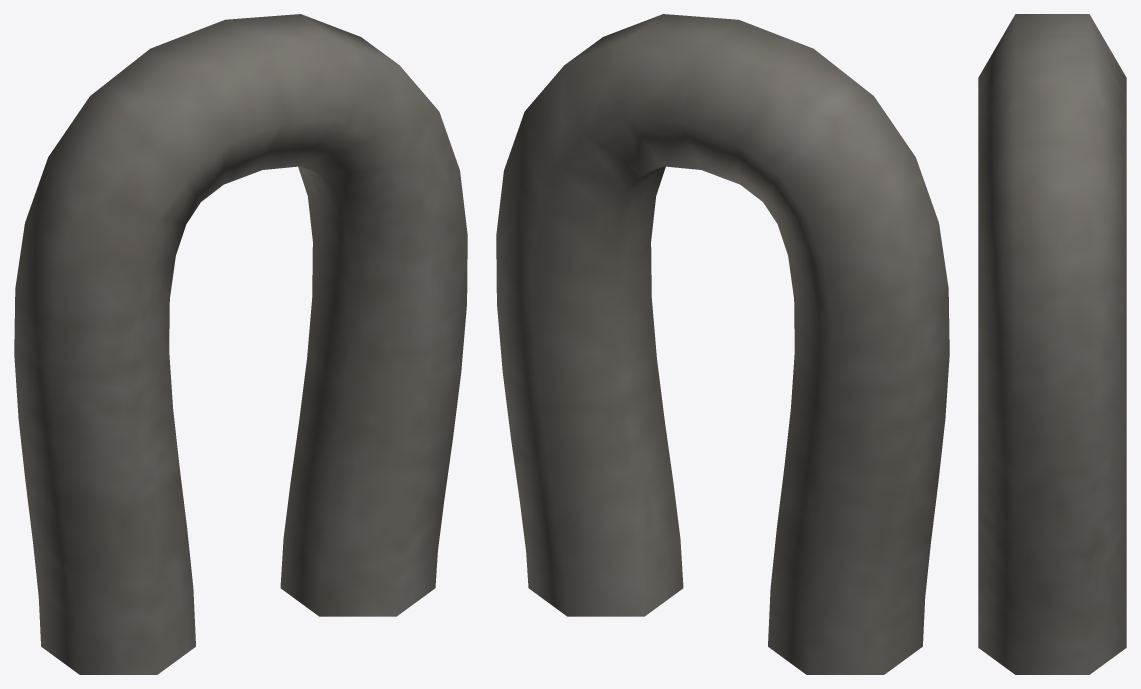
The model's file is cable_cable_double_uturn.fbx.
3 renders of one model, left to right at view 1: azimuth 30°, elevation 25°; view 2: azimuth 150°, elevation 25°; view 3: azimuth 270°, elevation 25°, orthographic. The views are drawn at different scales.
Parts seen in each view (by area): view 1: modular_electric_cables__cable_double_uturn; view 2: modular_electric_cables__cable_double_uturn; view 3: modular_electric_cables__cable_double_uturn.
Part boxes in pixels (left/top/right/bottom): modular_electric_cables__cable_double_uturn: left=14, top=14, right=467, bottom=674; modular_electric_cables__cable_double_uturn: left=496, top=14, right=949, bottom=674; modular_electric_cables__cable_double_uturn: left=978, top=14, right=1126, bottom=674.
Size of the model in its own units: 0.0346 by 0.0465 by 0.0112.
